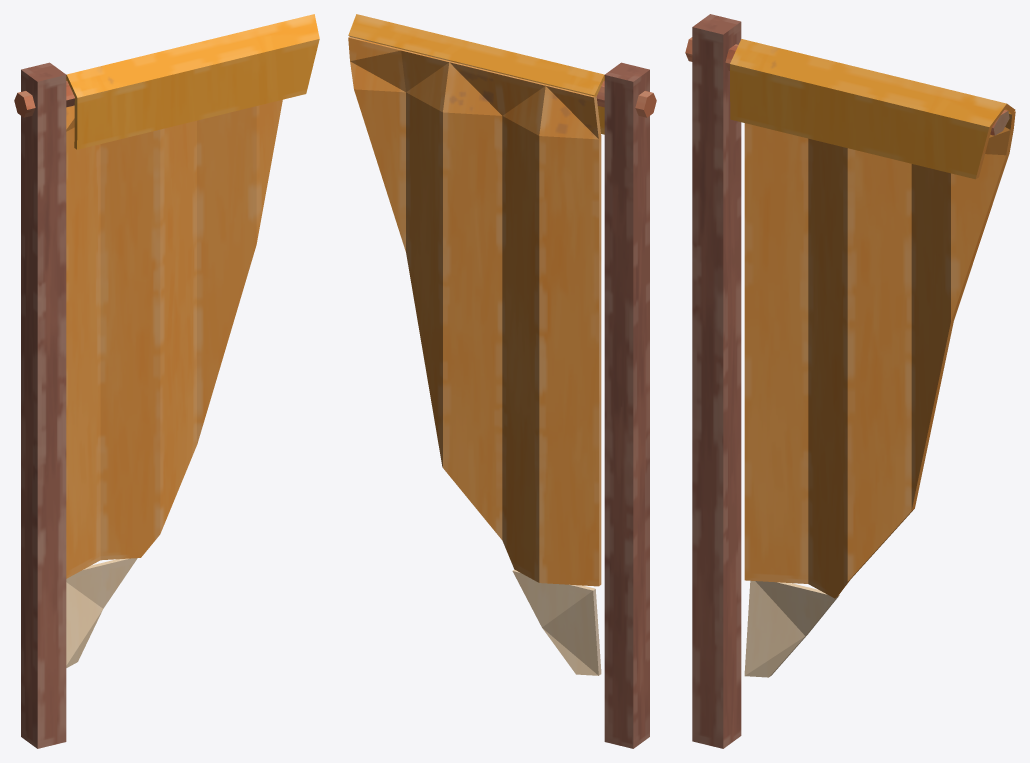
Rendered from rack_saffron_s02.fbx.
The picture shows the model from 3 angles, left to right: view 1: azimuth 30°, elevation 25°; view 2: azimuth 150°, elevation 25°; view 3: azimuth 330°, elevation 25°; orthographic projection. The views are drawn at different scales.
Parts seen in each view (by area): view 1: rack_saffron_s02; view 2: rack_saffron_s02; view 3: rack_saffron_s02.
Part boxes in pixels (<box>): rack_saffron_s02: <box>14,14,319,748</box>; rack_saffron_s02: <box>348,14,656,748</box>; rack_saffron_s02: <box>685,14,1015,748</box>.
Bounding box in the file's own units: 4.47 × 9.7 × 0.7289.
